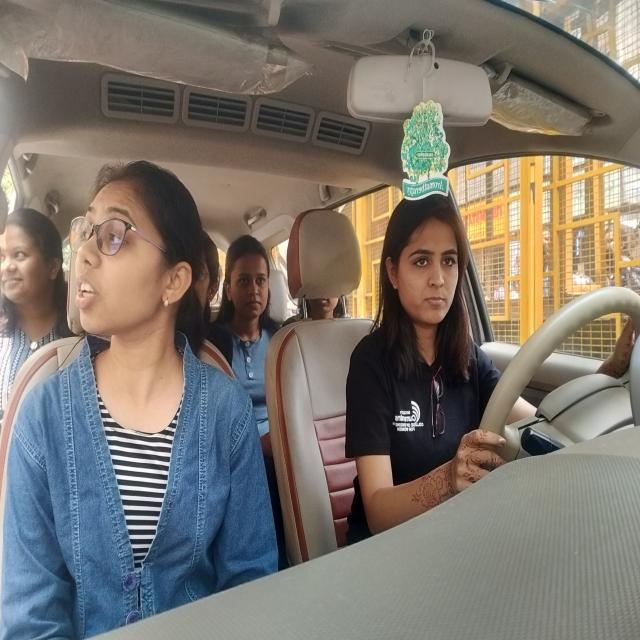person: (64, 159, 187, 335), (385, 192, 461, 326), (0, 218, 53, 307), (227, 238, 270, 328), (195, 238, 221, 310), (301, 301, 348, 323)
